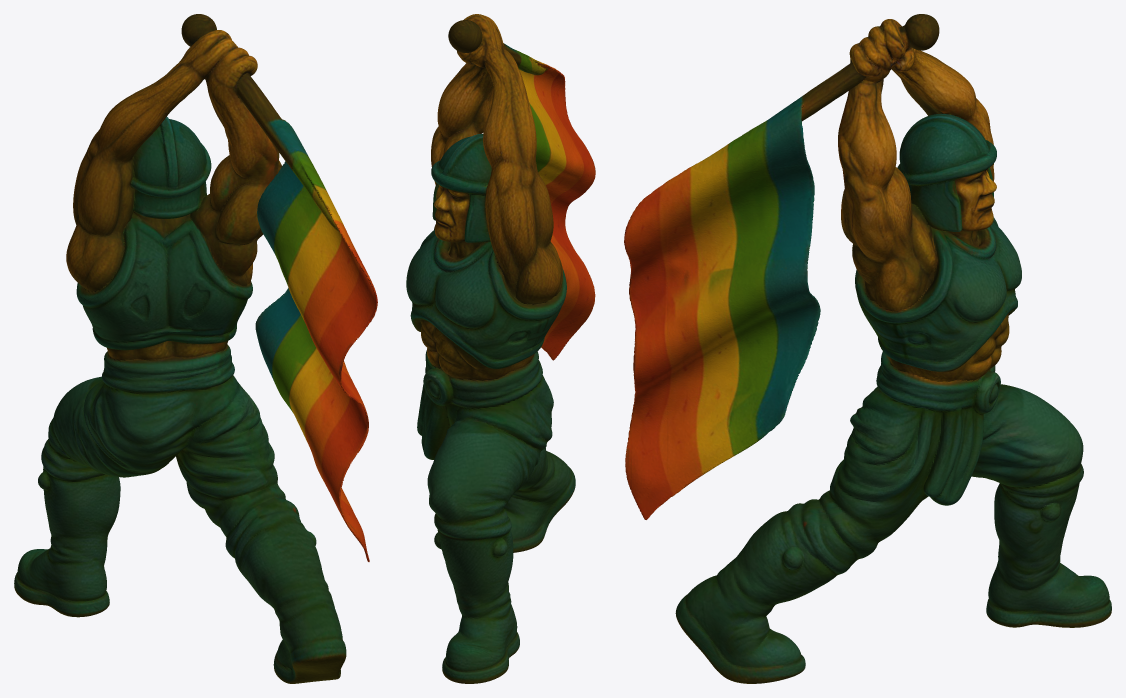
3 renders of one model, left to right at view 1: azimuth 30°, elevation 25°; view 2: azimuth 150°, elevation 25°; view 3: azimuth 270°, elevation 25°, orthographic. The views are drawn at different scales.
Parts seen in each view (by area): view 1: tripo_node_e0f7b14a-7961-44ec-97a3-e752d7f5421b; view 2: tripo_node_e0f7b14a-7961-44ec-97a3-e752d7f5421b; view 3: tripo_node_e0f7b14a-7961-44ec-97a3-e752d7f5421b.
Boxes of the visible parts, bbox=[...] form: tripo_node_e0f7b14a-7961-44ec-97a3-e752d7f5421b: bbox=[14, 14, 377, 683]; tripo_node_e0f7b14a-7961-44ec-97a3-e752d7f5421b: bbox=[406, 14, 595, 683]; tripo_node_e0f7b14a-7961-44ec-97a3-e752d7f5421b: bbox=[624, 14, 1111, 683].
Size of the model in its own units: 0.2941 by 1 by 0.6901.
Materials: 1 (1 with a texture image).
